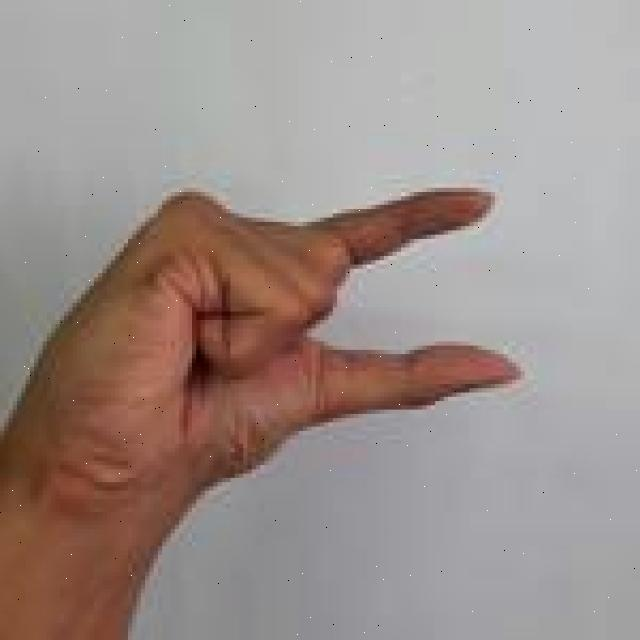G: (0, 182, 528, 640)
